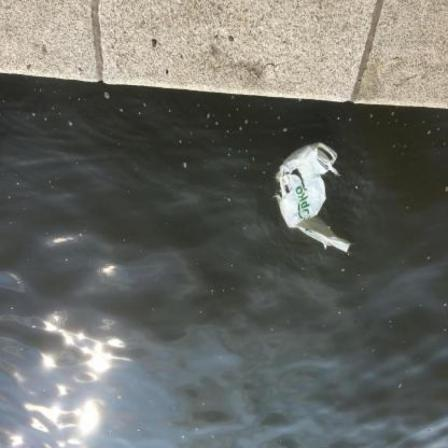Plastic bag - wrapper: (272, 144, 352, 254)
